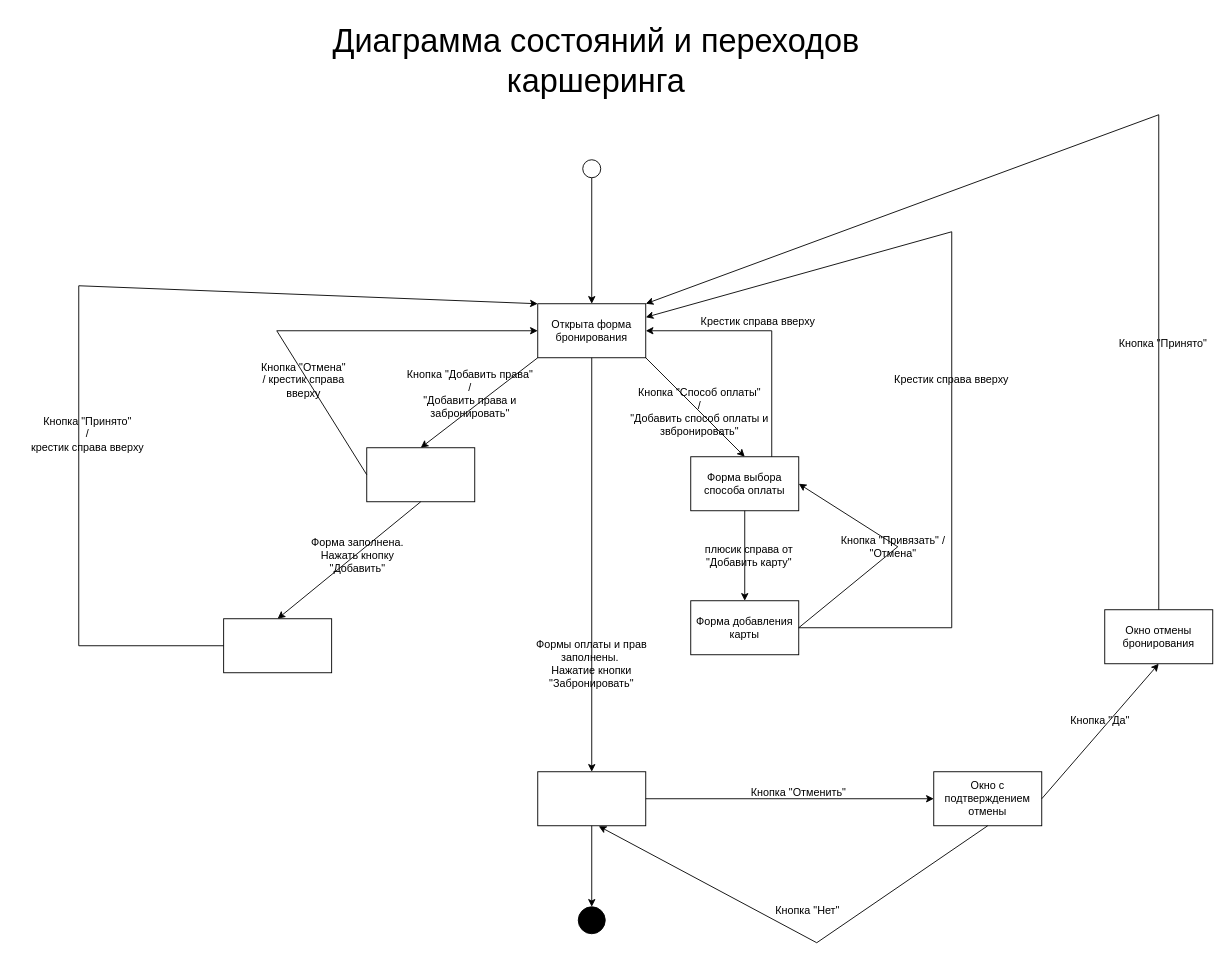
Some shapes in this 1229 by 966 pixel diagram are drawn without their labels. The shapes that lost their labels are listed below. From the top down, each one's box as (x1, y1, x2, y2) in pixels, then its label:
(366, 447, 475, 502): Форма добавления прав
(223, 618, 332, 673): Окно с уведомлением об отправке данных на верификацию
(537, 771, 646, 826): Окно с деталями бронирования машины
